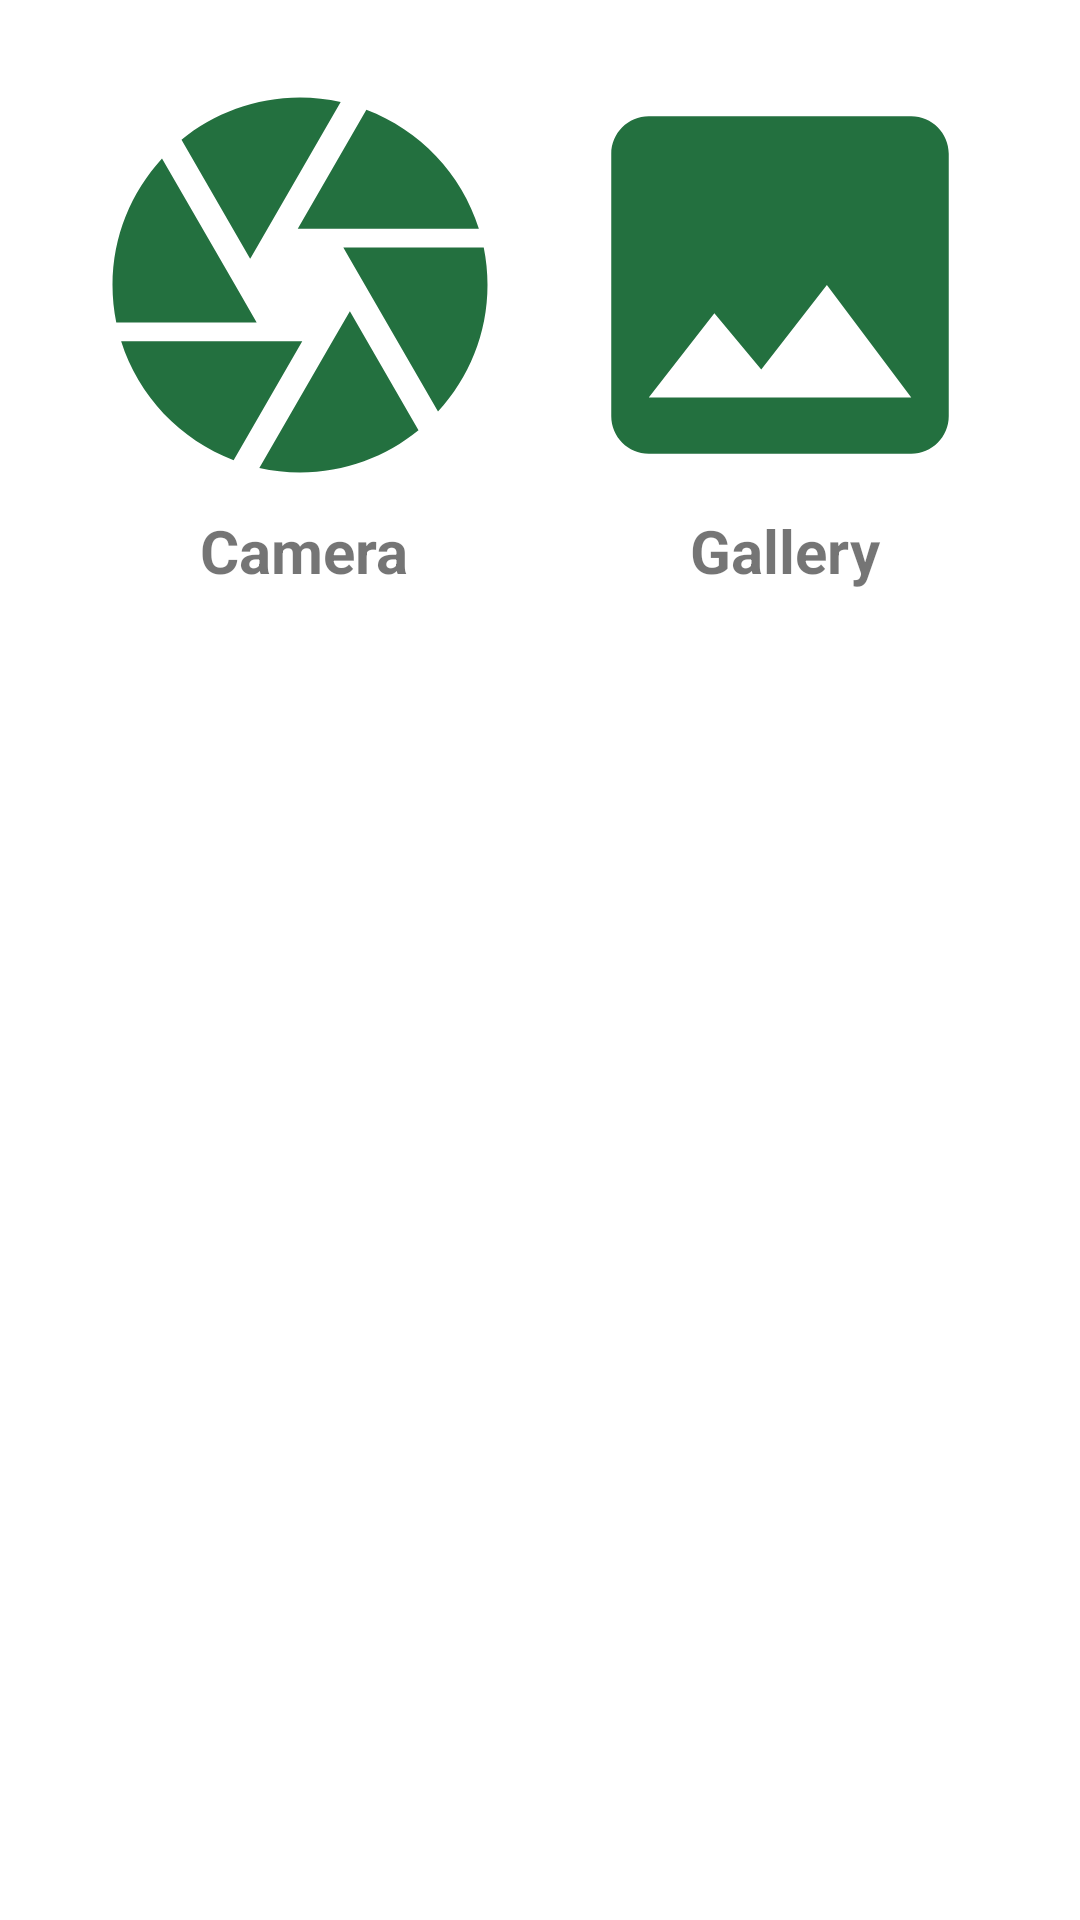

Named icons in this screenshot (1080×1920) and their bounding boxes, (x1, y1, x2, y2):
insert photo: (611, 116, 949, 454)
